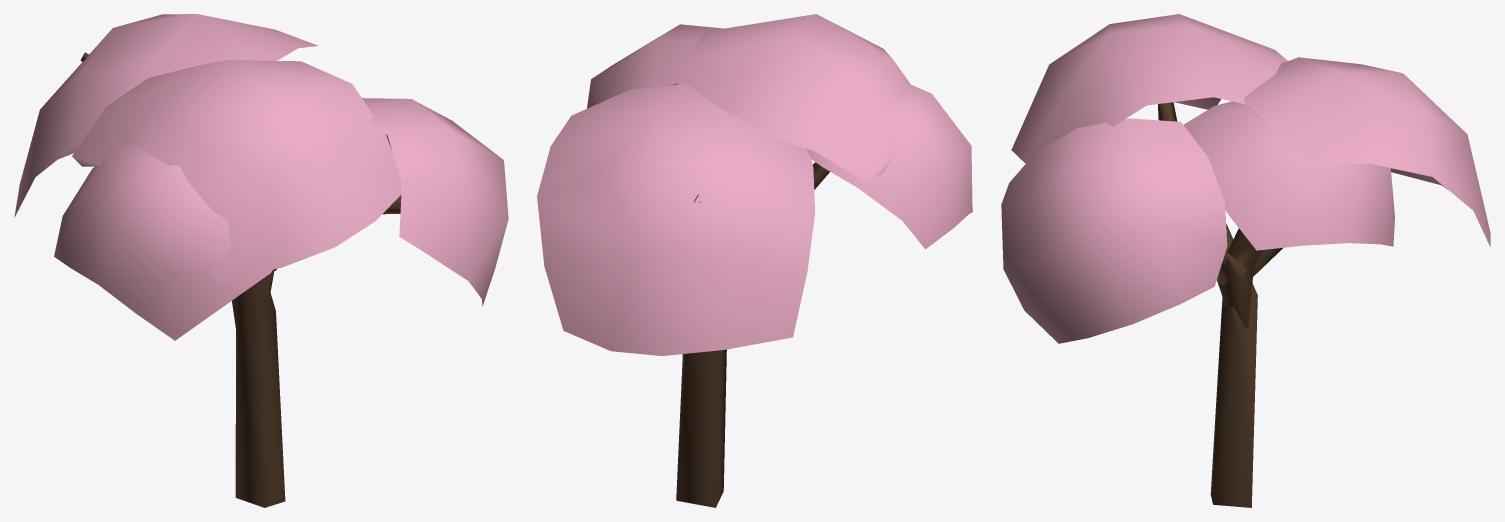
Rendered from SakuraPequena.fbx.
The picture shows the model from 3 angles, left to right: view 1: azimuth 30°, elevation 25°; view 2: azimuth 150°, elevation 25°; view 3: azimuth 270°, elevation 25°; orthographic projection. The views are drawn at different scales.
Visible parts, largest first — view 1: SakuraPequena_LOD0; view 2: SakuraPequena_LOD0; view 3: SakuraPequena_LOD0.
Boxes of the visible parts, bbox=[...] form: SakuraPequena_LOD0: bbox=[14, 14, 508, 507]; SakuraPequena_LOD0: bbox=[537, 14, 972, 507]; SakuraPequena_LOD0: bbox=[1001, 14, 1490, 507].
Size of what is drawn, in the model's own units: 1008 by 1139 by 1130.
